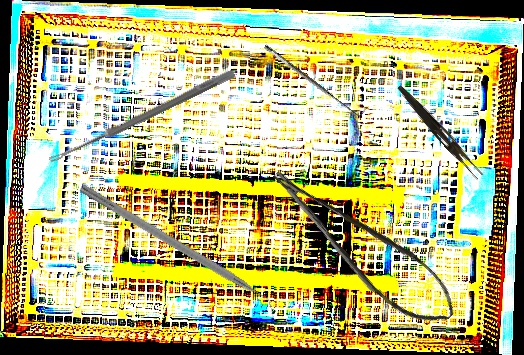Chopper: (72, 183, 285, 323)
Dressing Forceps: (392, 83, 487, 181)
Hook Surgical: (262, 37, 369, 122)
Micro Scissor: (267, 140, 466, 344)
Pusher: (282, 186, 380, 294)
Surgical Spoon: (47, 67, 236, 167)
